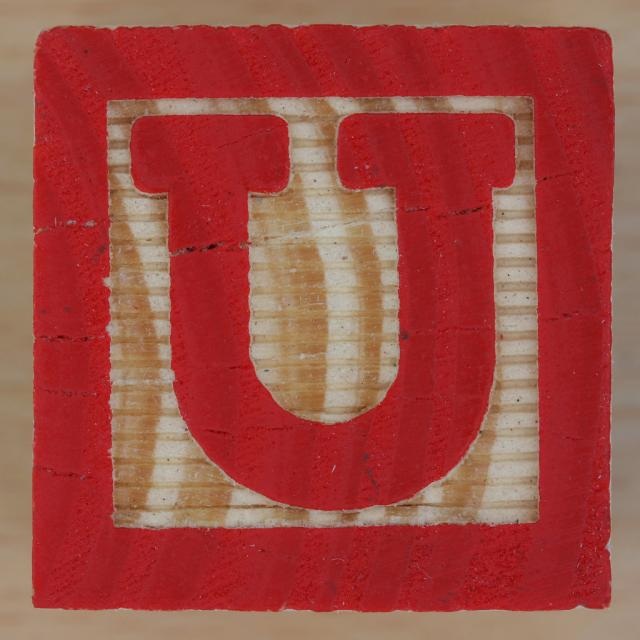U: (112, 103, 520, 515)
